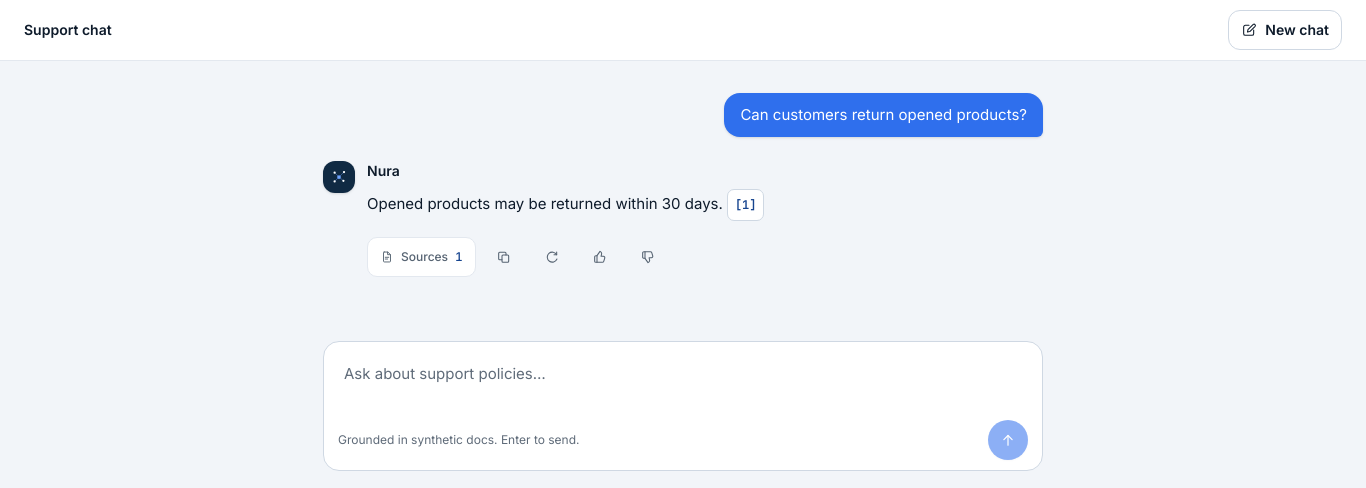
Test: ChatWorkspace › copies the grounded answer
Click the button named "Copy answer" at (504, 257), box 484,237 -> 524,277
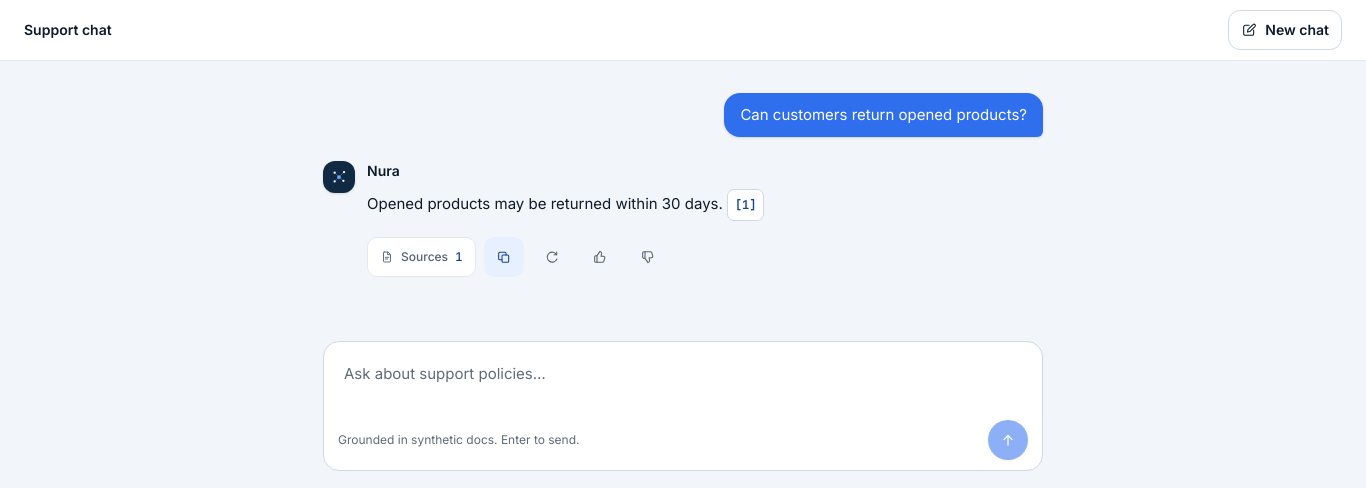
Check: the button named "Copied answer" is shown, box 484,237 -> 524,277
